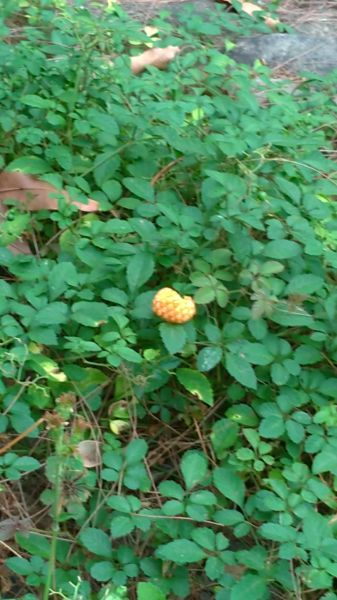eggs: (144, 280, 202, 325)
